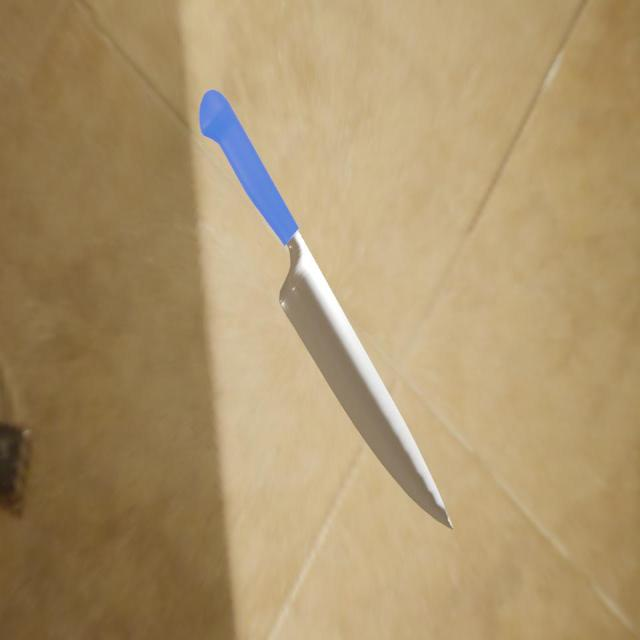knife: (199, 89, 299, 248)
